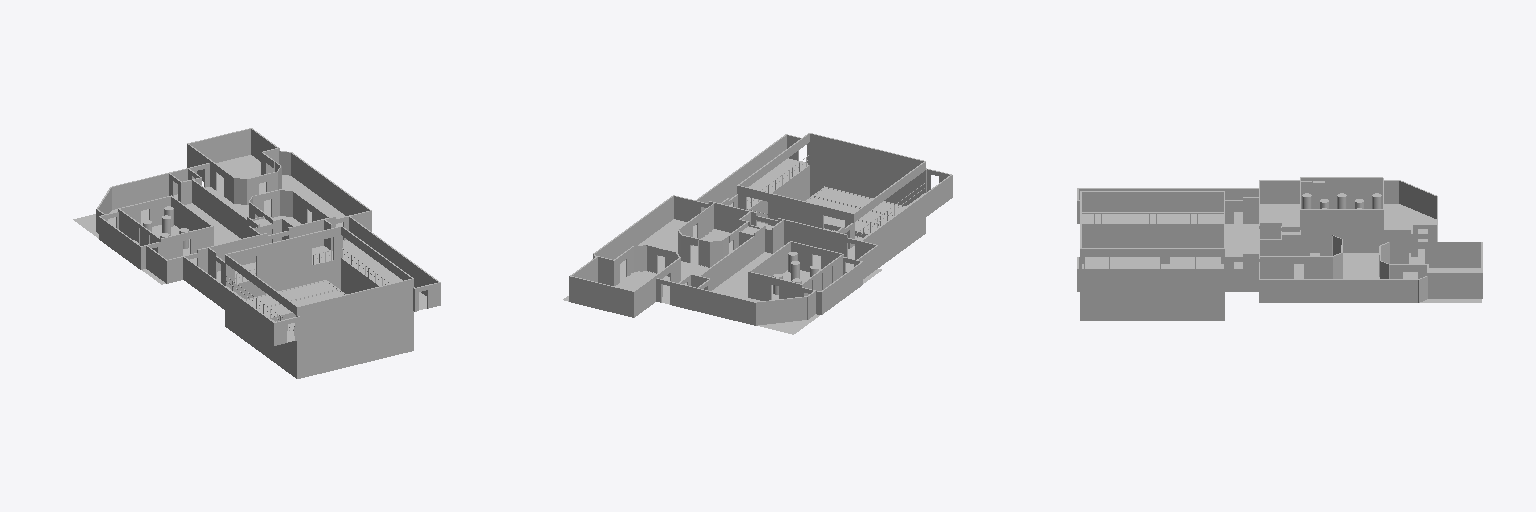
The model's file is level 2 greybox.obj.
3 renders of one model, left to right at view 1: azimuth 30°, elevation 25°; view 2: azimuth 150°, elevation 25°; view 3: azimuth 270°, elevation 25°, orthographic.
Visible parts, largest first — view 1: Cube.004, Cube, Plane.001, Cube.002, Cube.047, Cube.003, Cube.008, Cube.006, Cube.049, Cube.007, Cube.020, Cube.065 (+5 smaller); view 2: Cube, Cube.004, Plane.001, Cube.047, Cube.002, Cube.008, Cube.049, Cube.003, Cube.007, Cube.036, Cube.020, Cube.065 (+6 smaller); view 3: Cube, Cube.003, Plane.001, Cube.047, Cube.007, Cube.069, Cube.020, Cube.062, Cube.075, Cube.036, Cube.021, Cube.008 (+2 smaller).
Boxes of the visible parts, x1,y1,x2,y2 form: Cube.004: [298, 278, 412, 378]; Cube: [168, 152, 440, 345]; Plane.001: [73, 155, 426, 342]; Cube.002: [221, 226, 342, 285]; Cube.047: [187, 128, 279, 190]; Cube.003: [225, 258, 413, 378]; Cube.008: [197, 216, 335, 278]; Cube.006: [227, 259, 340, 298]; Cube.049: [112, 166, 196, 209]; Cube.007: [226, 226, 413, 315]; Cube.020: [192, 179, 246, 238]; Cube.065: [99, 216, 149, 269]; Cube: [593, 134, 952, 259]; Cube.004: [810, 133, 923, 205]; Plane.001: [563, 158, 917, 334]; Cube.047: [569, 256, 662, 317]; Cube.002: [733, 185, 854, 248]; Cube.008: [709, 198, 847, 257]; Cube.049: [670, 281, 755, 325]; Cube.003: [749, 165, 925, 267]; Cube.007: [738, 133, 925, 221]; Cube.036: [755, 296, 807, 325]; Cube.020: [699, 236, 755, 290]; Cube.065: [820, 259, 862, 314]; Cube: [1077, 181, 1417, 302]; Cube.003: [1080, 223, 1224, 320]; Plane.001: [1082, 204, 1481, 302]; Cube.047: [1425, 242, 1482, 298]; Cube.007: [1080, 191, 1223, 256]; Cube.069: [1300, 209, 1383, 229]; Cube.020: [1301, 230, 1410, 252]; Cube.062: [1301, 187, 1382, 208]; Cube.075: [1259, 180, 1300, 203]; Cube.036: [1399, 180, 1436, 218]; Cube.021: [1260, 256, 1293, 278]; Cube.008: [1243, 192, 1259, 268].
Size of the model in its own units: 23.32 by 7.62 by 38.86.